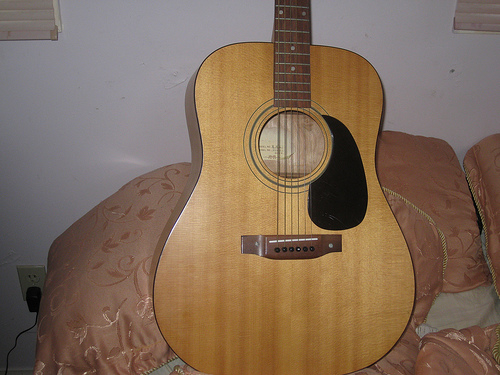guitar: (148, 1, 418, 375)
